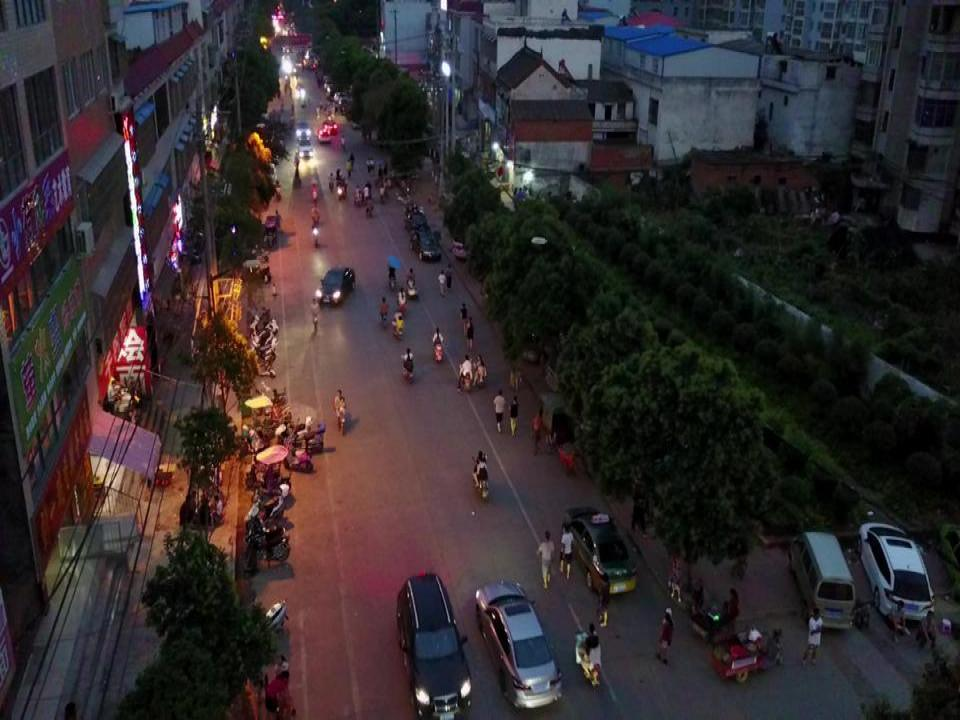car: (395, 570, 473, 720), (475, 580, 561, 707), (860, 524, 936, 631), (564, 506, 638, 594), (316, 266, 355, 306), (453, 227, 493, 261), (519, 327, 555, 364), (412, 231, 441, 264), (404, 211, 429, 237), (295, 121, 311, 139), (296, 142, 314, 158), (333, 91, 352, 104), (318, 127, 332, 142), (324, 119, 337, 132), (323, 79, 333, 89)
van: (791, 532, 857, 631), (545, 349, 597, 390)
